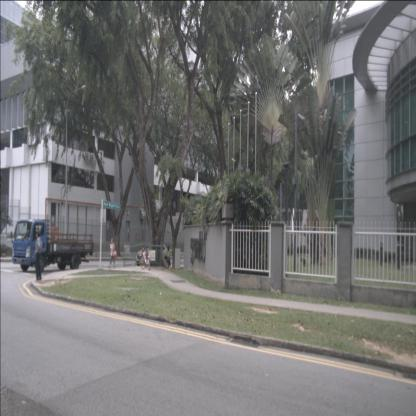human-pedestrian-adult: (35, 231, 42, 282), (108, 237, 118, 270), (166, 245, 173, 270)
vehicle-bicycle: (139, 245, 151, 271)
vehicle-car: (136, 244, 168, 267)
vehicle-truck: (12, 218, 94, 272)
